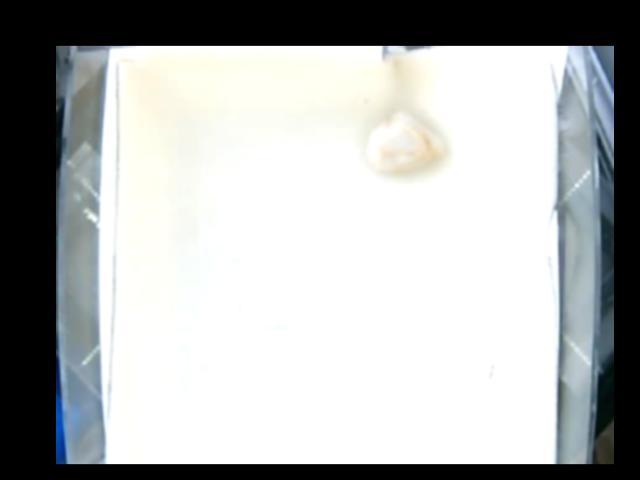Pebble: (365, 107, 445, 174)
